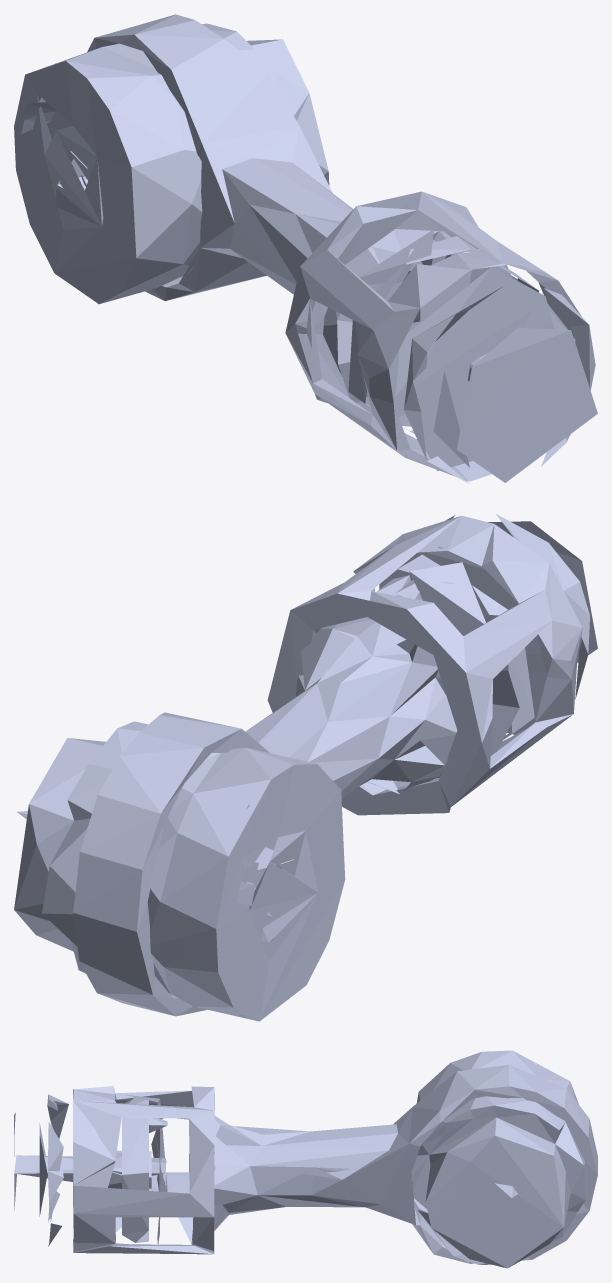
The model's file is agvl.SLDASM_cclc9_visual_vis_1.dae.
The picture shows the model from 3 angles, top to bottom: view 1: azimuth 30°, elevation 25°; view 2: azimuth 150°, elevation 25°; view 3: azimuth 270°, elevation 25°; orthographic projection. The views are drawn at different scales.
Visible parts, largest first — view 1: node; view 2: node; view 3: node.
Boxes of the visible parts, x1,y1,x2,y2 form: node: [14, 14, 597, 483]; node: [14, 513, 597, 1021]; node: [14, 1050, 597, 1268].
Size of the model in its own units: 0.0827 by 0.0781 by 0.2309.
